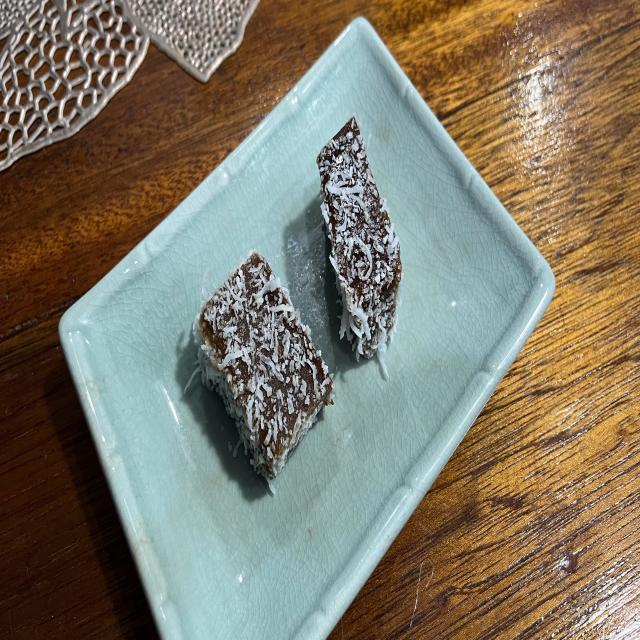kaswi: (192, 251, 334, 484), (318, 118, 402, 378)
